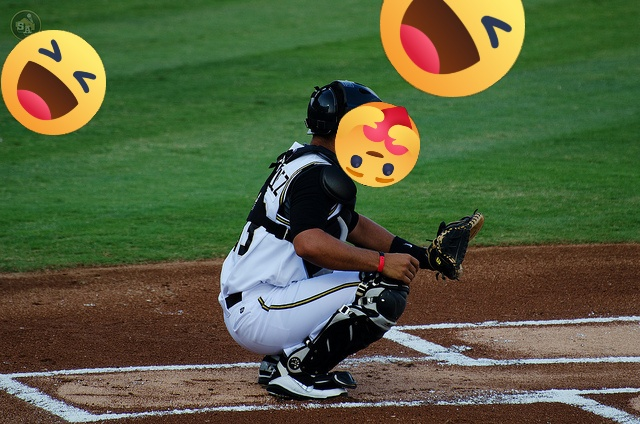care: (335, 102, 420, 187)
haha: (380, 0, 525, 97), (1, 30, 106, 135)
